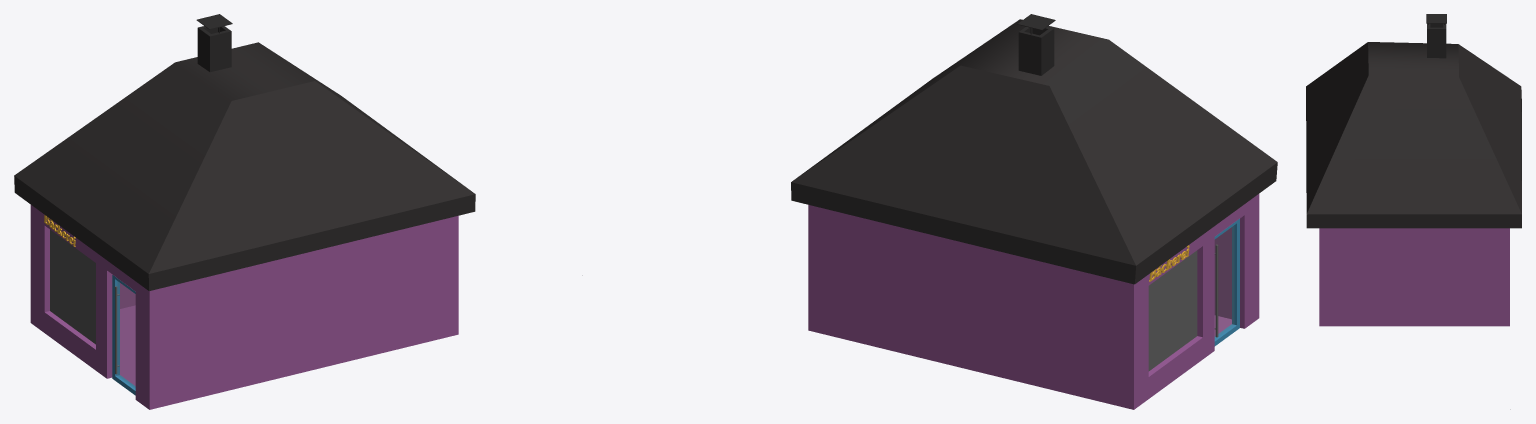
Rendered from baeckerei.DAE.
3 views of the same model, side by side, from view 1: azimuth 30°, elevation 25°; view 2: azimuth 150°, elevation 25°; view 3: azimuth 270°, elevation 25° (orthographic). The views are drawn at different scales.
Parts seen in each view (by area): view 1: roof, house, window2, pCube1, kamin, door1; view 2: roof, house, window2, kamin, pCube1, door1; view 3: roof, house, kamin, kaminOben.
Boxes of the visible parts, x1,y1,x2,y2 form: roof: (14,42,475,291); house: (30,205,458,409); window2: (50,229,95,344); pCube1: (118,282,134,386); kamin: (197,26,231,72); door1: (112,275,135,395); roof: (791,19,1277,284); house: (808,194,1259,409); window2: (1148,250,1197,371); kamin: (1018,26,1054,75); pCube1: (1215,226,1233,337); door1: (1214,218,1239,346); roof: (1306,42,1521,228); house: (1319,228,1509,326); kamin: (1427,23,1446,58); kaminOben: (1426,14,1446,23).
Size of the model in its own units: 10.34 by 5.58 by 4.53.
